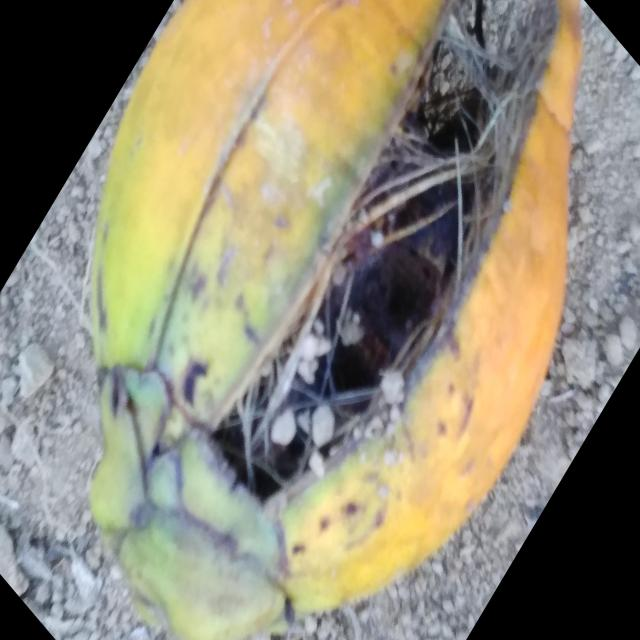damaged: (90, 0, 580, 640)
